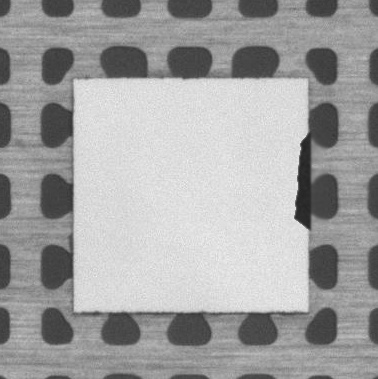DIE_BROKEN: (291, 134, 313, 230)
